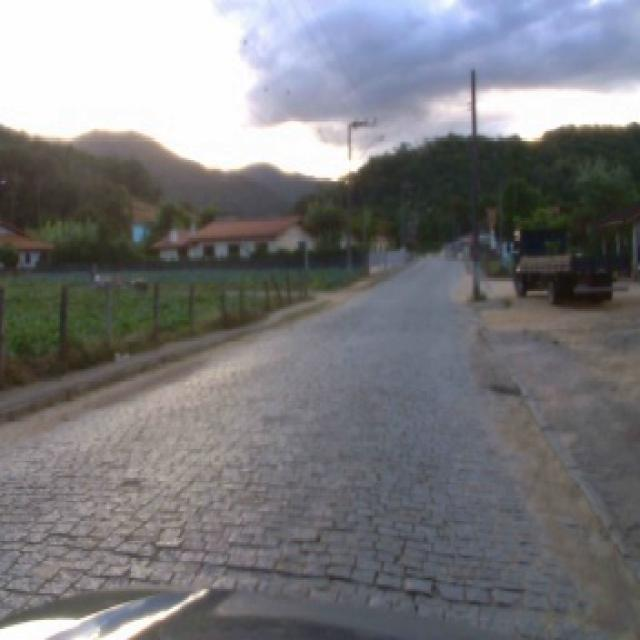Poth-hole: (491, 380, 522, 396)
